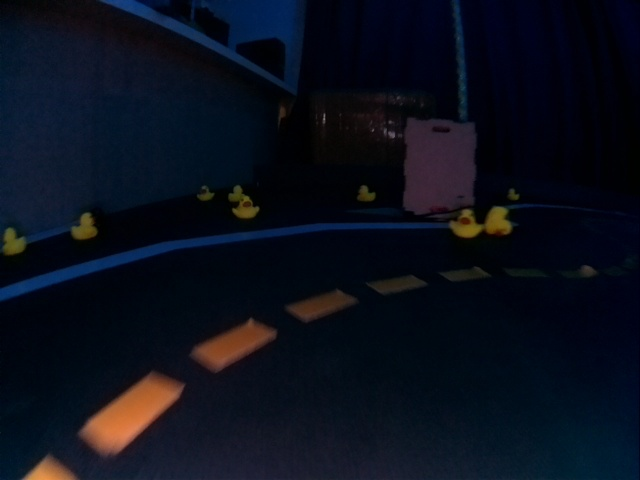Duckie: (451, 210, 480, 237), (486, 207, 511, 236), (71, 213, 98, 239), (4, 227, 27, 256), (232, 196, 259, 219), (357, 185, 376, 201), (197, 185, 214, 201), (228, 188, 246, 201), (508, 188, 520, 199)
